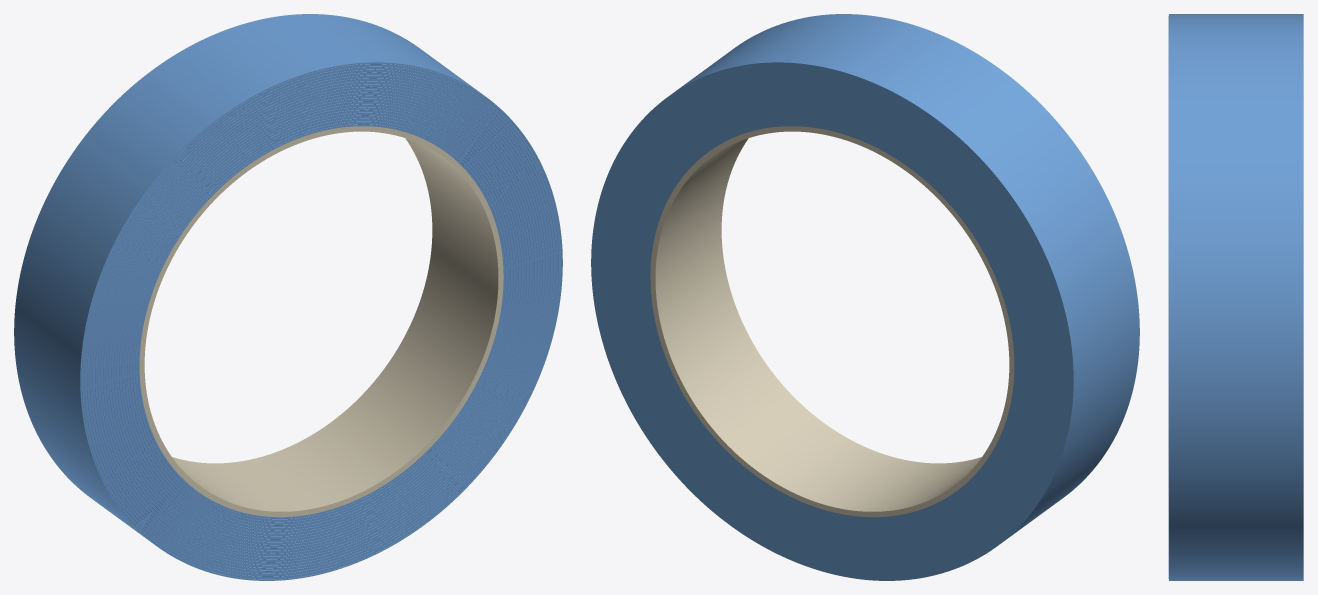
File: tape_roll.glb
3 views of the same model, side by side, from view 1: azimuth 30°, elevation 25°; view 2: azimuth 150°, elevation 25°; view 3: azimuth 270°, elevation 25° (orthographic).
Parts seen in each view (by area): view 1: 1_wound_masking_tape, 0_cardboard_core_edge, 23_fine_paper_winding_edge, 24_fine_paper_winding_edge, 21_fine_paper_winding_edge, 22_fine_paper_winding_edge, 20_fine_paper_winding_edge, 19_fine_paper_winding_edge, 18_fine_paper_winding_edge, 17_fine_paper_winding_edge, 16_fine_paper_winding_edge, 15_fine_paper_winding_edge (+12 smaller); view 2: 1_wound_masking_tape, 0_cardboard_core_edge; view 3: 1_wound_masking_tape, 24_fine_paper_winding_edge.
Part boxes in pixels (x1,y1,x2,y2): 1_wound_masking_tape: (14, 14, 562, 580); 0_cardboard_core_edge: (139, 126, 503, 517); 23_fine_paper_winding_edge: (84, 66, 558, 576); 24_fine_paper_winding_edge: (81, 64, 561, 579); 21_fine_paper_winding_edge: (89, 72, 553, 571); 22_fine_paper_winding_edge: (87, 69, 556, 573); 20_fine_paper_winding_edge: (92, 75, 550, 568); 19_fine_paper_winding_edge: (95, 78, 548, 565); 18_fine_paper_winding_edge: (97, 81, 545, 562); 17_fine_paper_winding_edge: (100, 84, 542, 559); 16_fine_paper_winding_edge: (103, 86, 540, 556); 15_fine_paper_winding_edge: (105, 89, 537, 553); 1_wound_masking_tape: (591, 14, 1139, 580); 0_cardboard_core_edge: (650, 126, 1014, 517); 1_wound_masking_tape: (1169, 14, 1303, 580); 24_fine_paper_winding_edge: (1168, 16, 1168, 578).
Size of the model in its own units: 0.1053 by 0.1053 by 0.0251.
